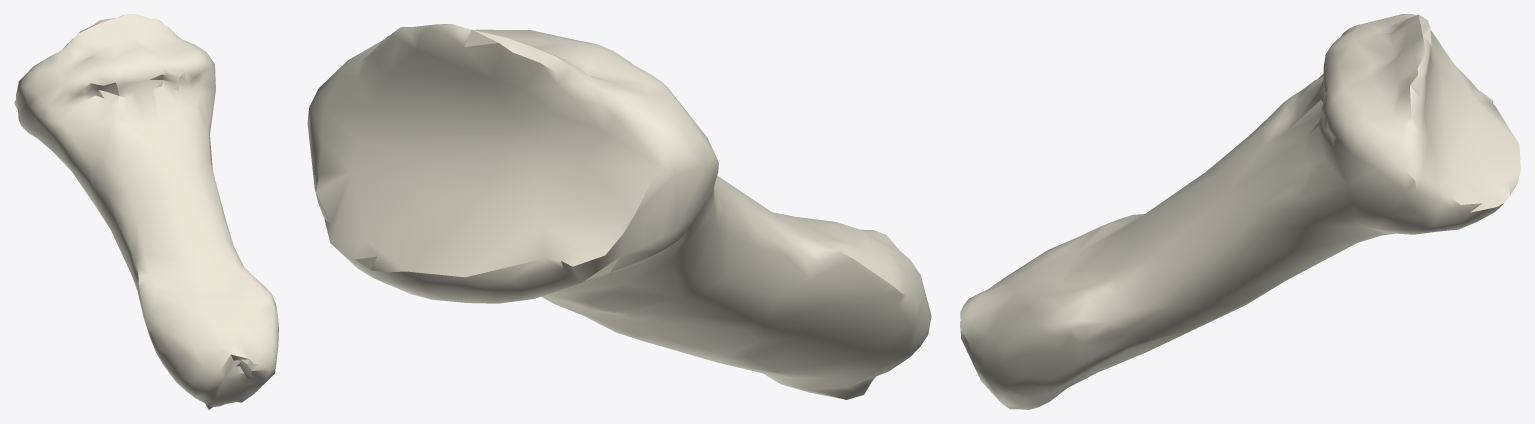
The model's file is fma24461_mm1894.glb.
3 renders of one model, left to right at view 1: azimuth 30°, elevation 25°; view 2: azimuth 150°, elevation 25°; view 3: azimuth 270°, elevation 25°, orthographic. The views are drawn at different scales.
Visible parts, largest first — view 1: FMA24461_MM1894; view 2: FMA24461_MM1894; view 3: FMA24461_MM1894.
Part boxes in pixels (box(x1,y1,x2,y2)): FMA24461_MM1894: box(14, 14, 278, 409); FMA24461_MM1894: box(307, 24, 931, 399); FMA24461_MM1894: box(960, 14, 1520, 409).
Bounding box in the file's own units: 0.00966 × 0.0135 × 0.0175.
